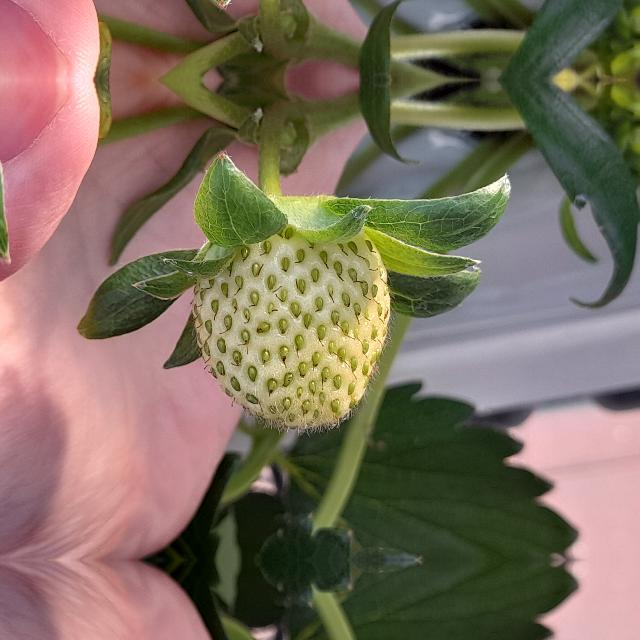Health_25: (189, 215, 397, 437)
